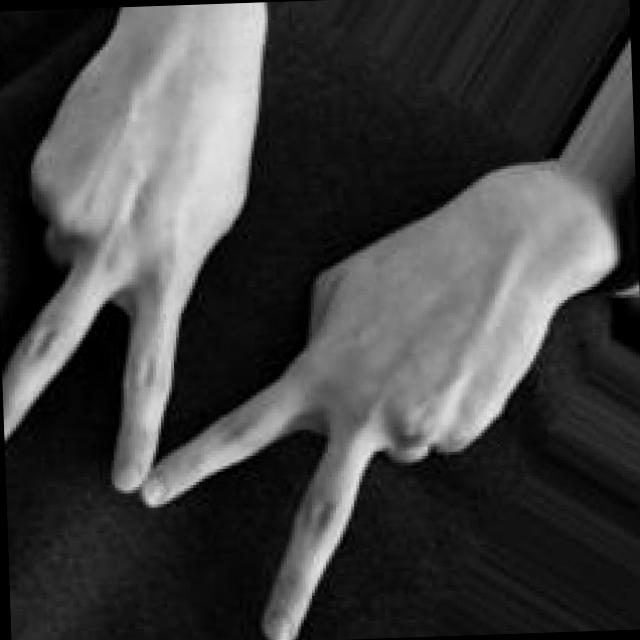M: (0, 29, 546, 640)
